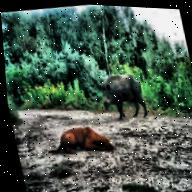boar: (83, 66, 162, 120)
